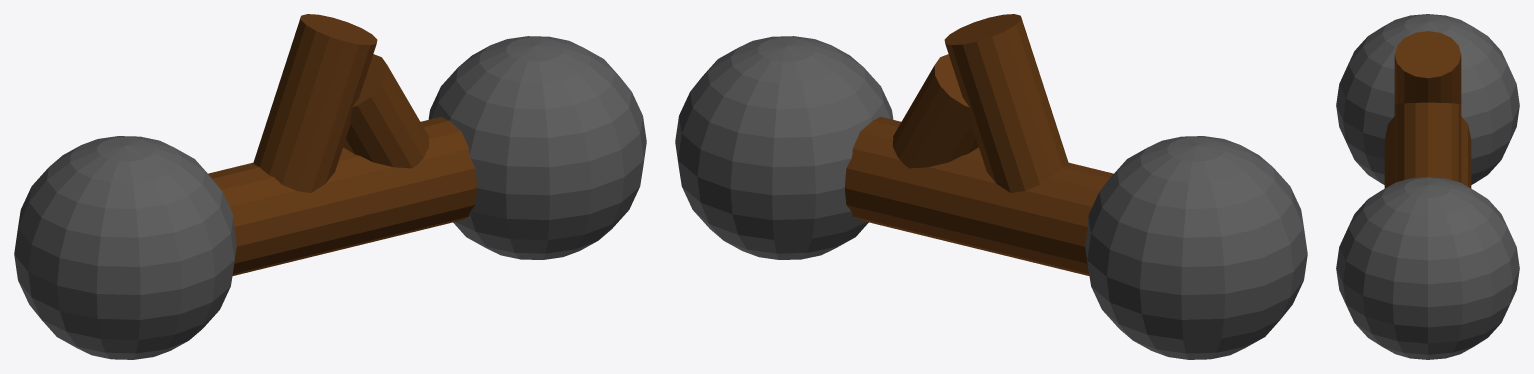
The model's file is StrongBerry.fbx.
3 views of the same model, side by side, from view 1: azimuth 30°, elevation 25°; view 2: azimuth 150°, elevation 25°; view 3: azimuth 270°, elevation 25° (orthographic). The views are drawn at different scales.
Parts seen in each view (by area): view 1: Cylinder; view 2: Cylinder; view 3: Cylinder.
Boxes of the visible parts, x1,y1,x2,y2 form: Cylinder: (14,14,646,359); Cylinder: (675,14,1307,359); Cylinder: (1336,14,1519,359).
Bounding box in the file's own units: 620 × 276 × 200.
